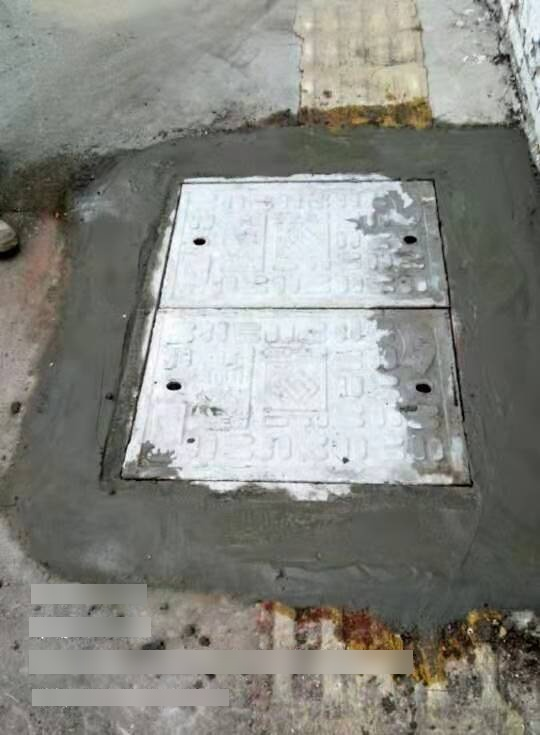good: (101, 173, 479, 497)
